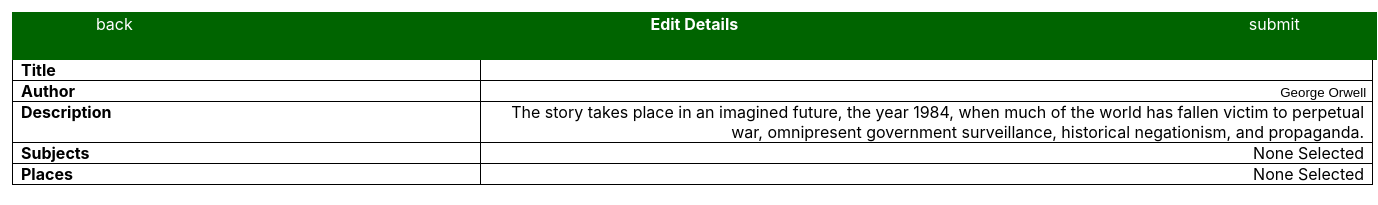
it: The Edit component › the edit mode › Should change view to PropertyEdit when clicking the Places
Click the element showing "Places None Selected" at (693, 174), box [12,164,1373,185]
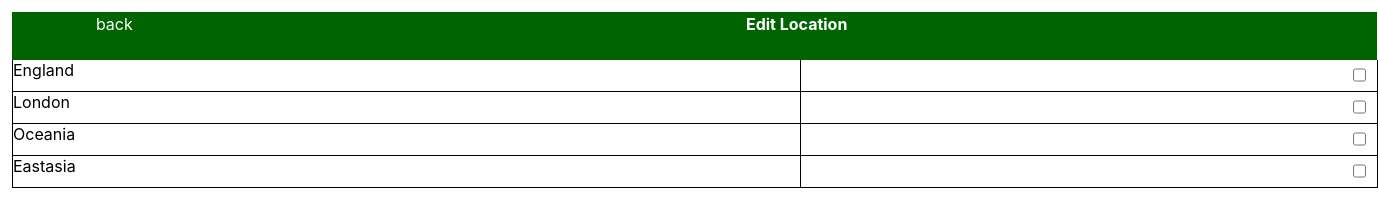
Result: the text "Edit Location" is shown at [746,14,847,34]
